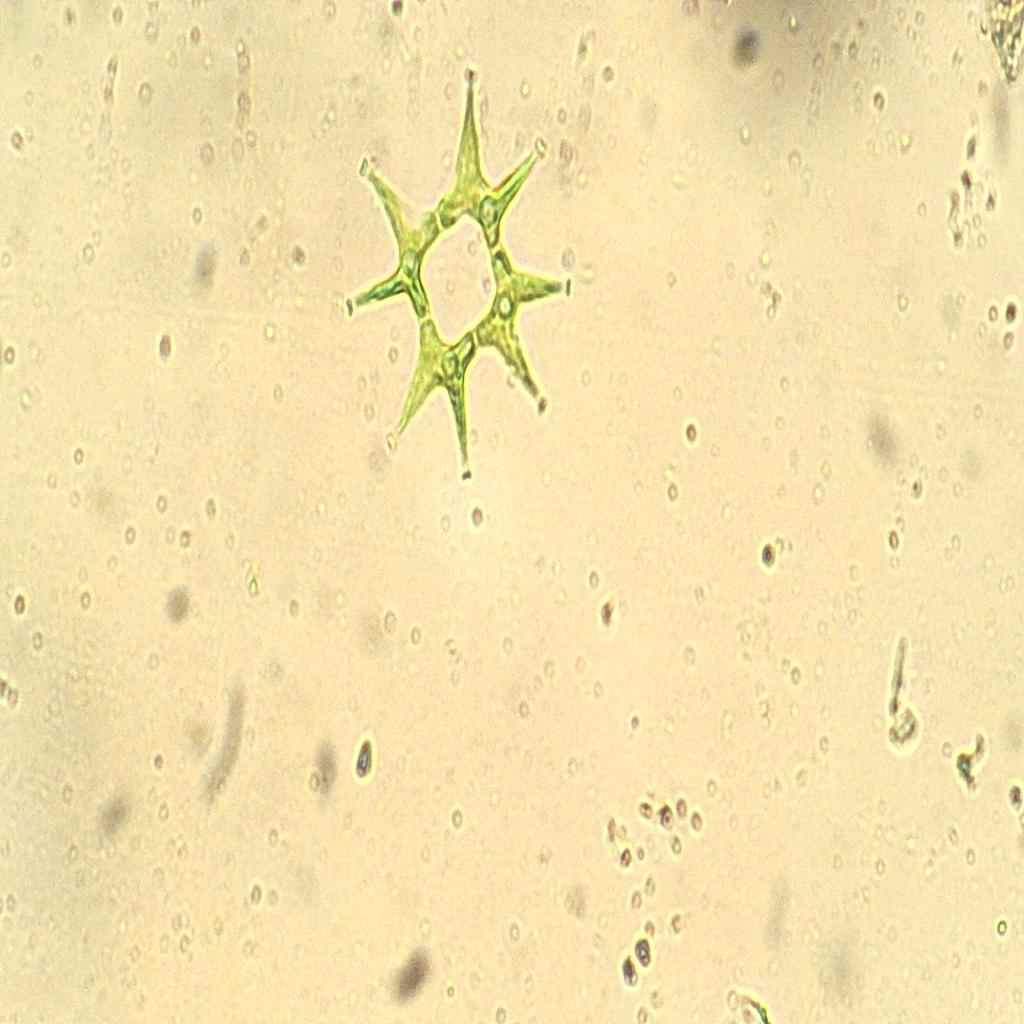Pediastrum_75O: (334, 61, 578, 499)
